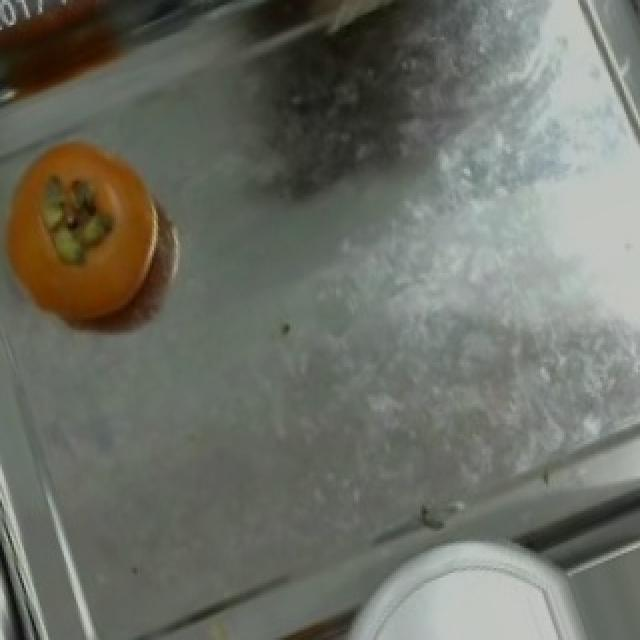Fruit: (2, 114, 184, 350), (352, 531, 584, 640), (220, 2, 434, 67)
